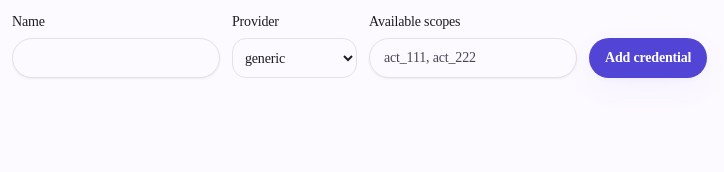
it: CreateCredentialForm › says the connection is down when the request cannot be sent
Type "X" into the field labelled "Name" at point(116, 58), box [12,38,220,78]
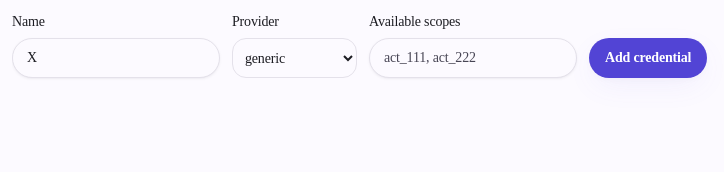
Click the button "Add credential" at point(648, 58), box [589,38,707,78]
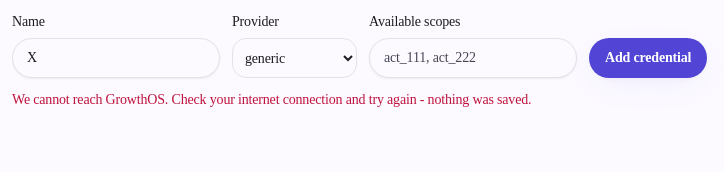
Expected: the message shows "We cannot reach GrowthOS. Check your internet connection and try again - nothing was saved.", [12,92,531,107]
